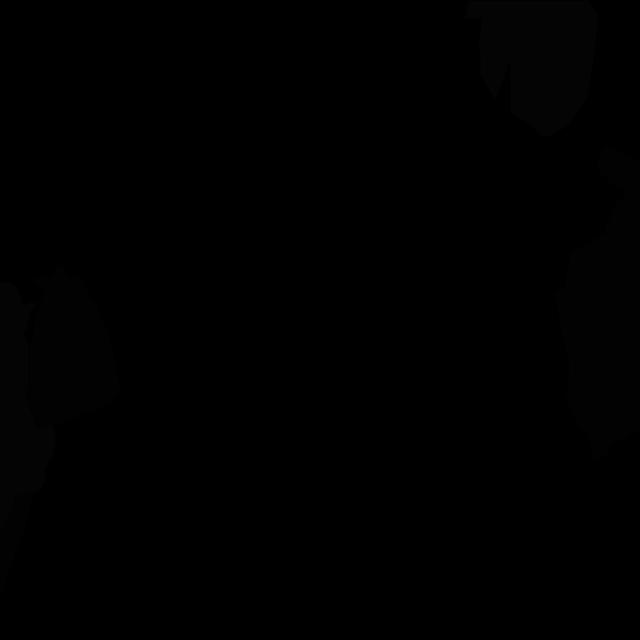cardboard: (554, 145, 640, 460), (25, 264, 122, 428), (0, 492, 34, 597)
soft_plastic: (464, 0, 598, 137), (0, 281, 56, 534)
